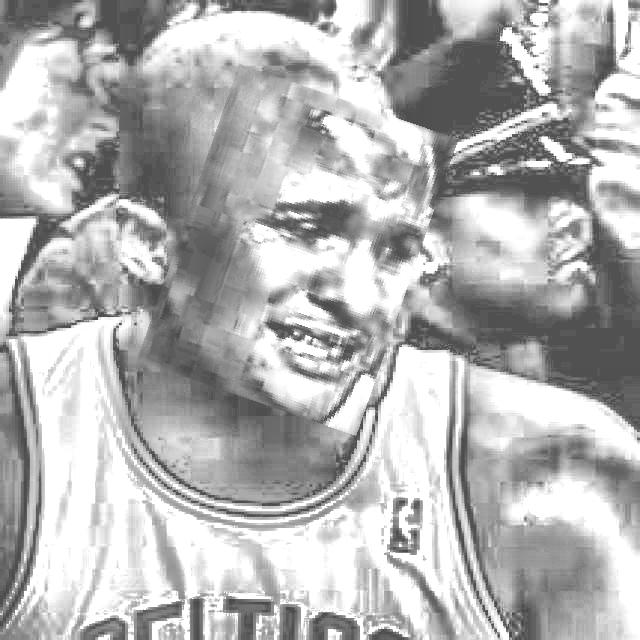sad: (160, 78, 436, 422)
